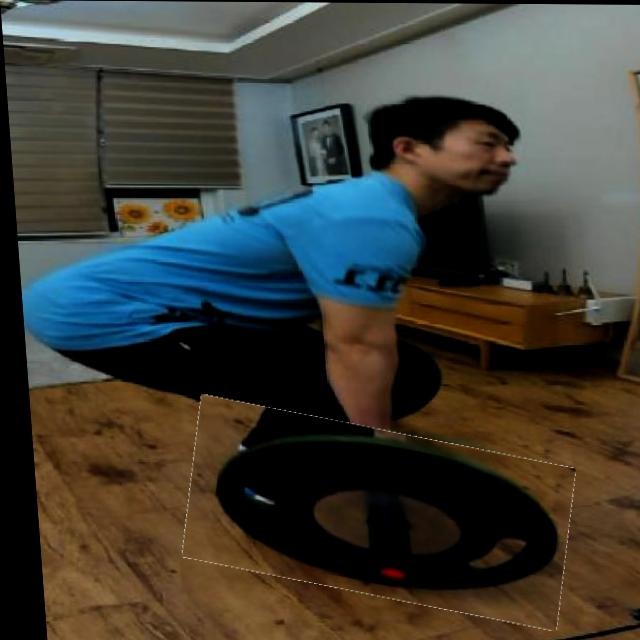barbell: (172, 412, 571, 614)
